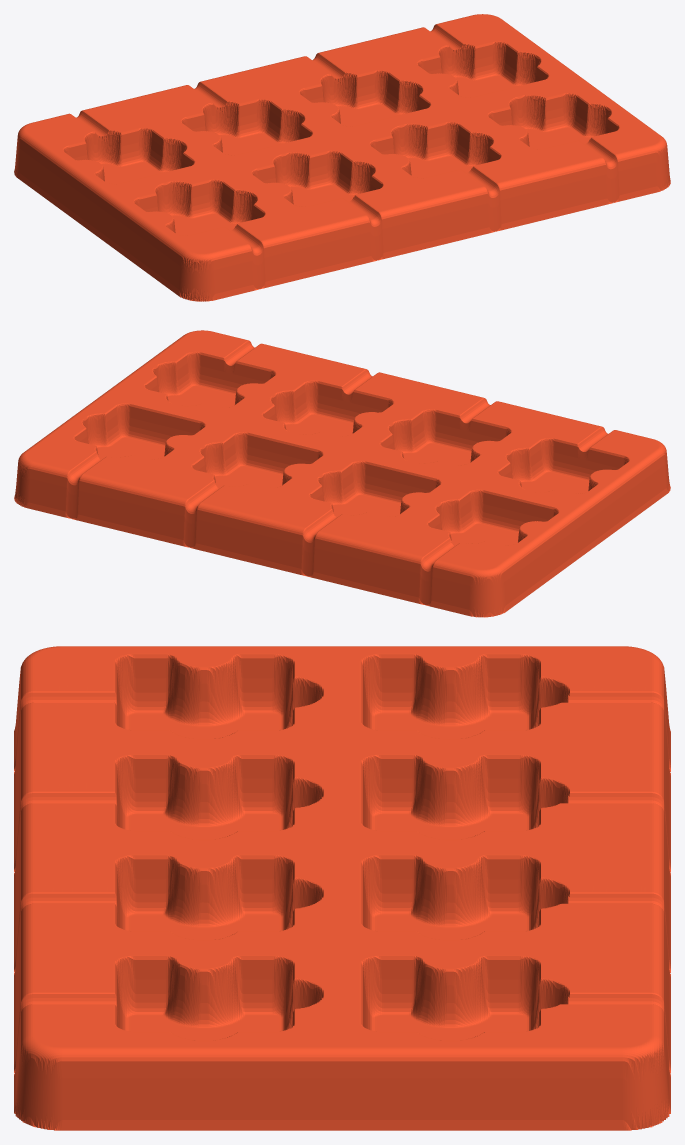
File: mold.glb
3 renders of one model, top to bottom at view 1: azimuth 30°, elevation 25°; view 2: azimuth 150°, elevation 25°; view 3: azimuth 270°, elevation 25°, orthographic. The views are drawn at different scales.
Parts seen in each view (by area): view 1: geometry_0; view 2: geometry_0; view 3: geometry_0.
Part boxes in pixels (left/top/right/bottom): geometry_0: left=14, top=14, right=670, bottom=301; geometry_0: left=14, top=330, right=670, bottom=617; geometry_0: left=14, top=646, right=670, bottom=1130.
Size of the model in its own units: 0.1843 by 0.0155 by 0.1229.
